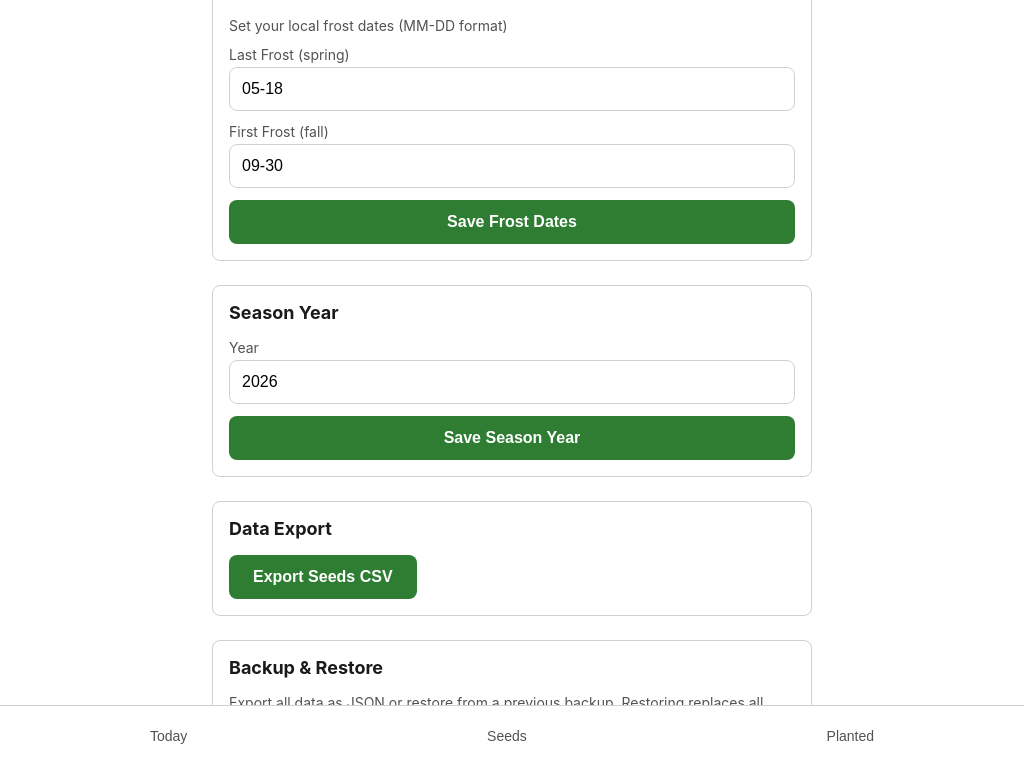
Test case: Settings page › saves season year
The width and height of the screenshot is (1024, 766).
(page scrolled)
Replace the text in the field labelled "Year" with "2027". click: (512, 382)
box: top-left (229, 360), bottom-right (795, 404)
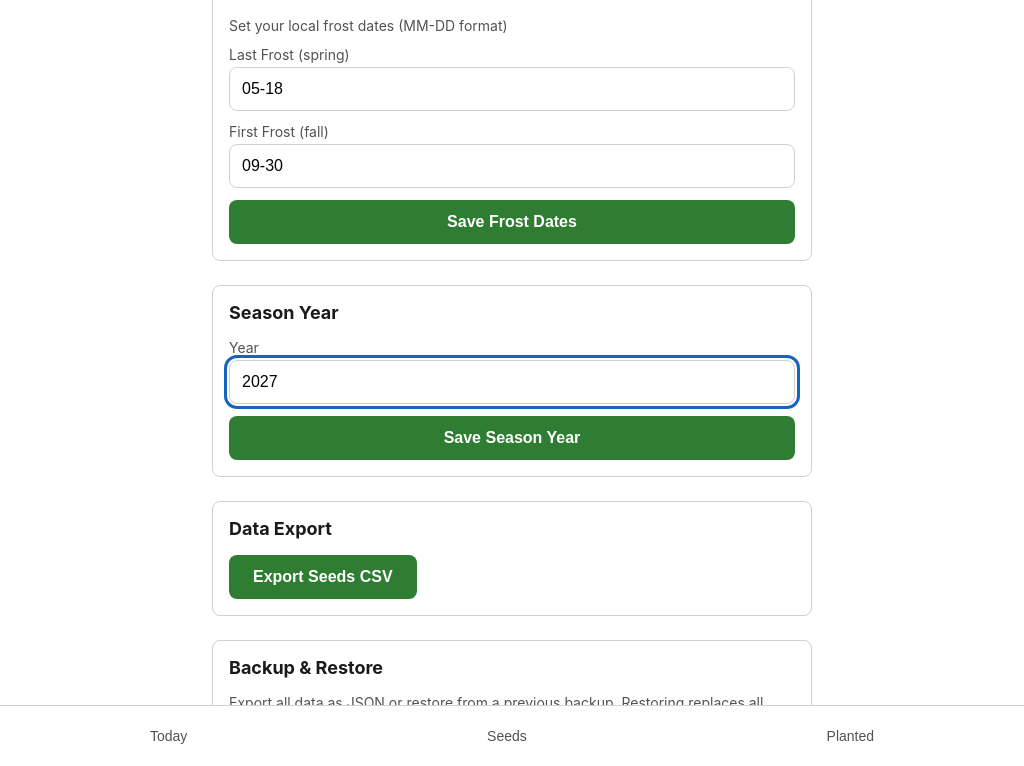
Click the button "Save Season Year". click: (512, 438)
box: top-left (229, 416), bottom-right (795, 460)
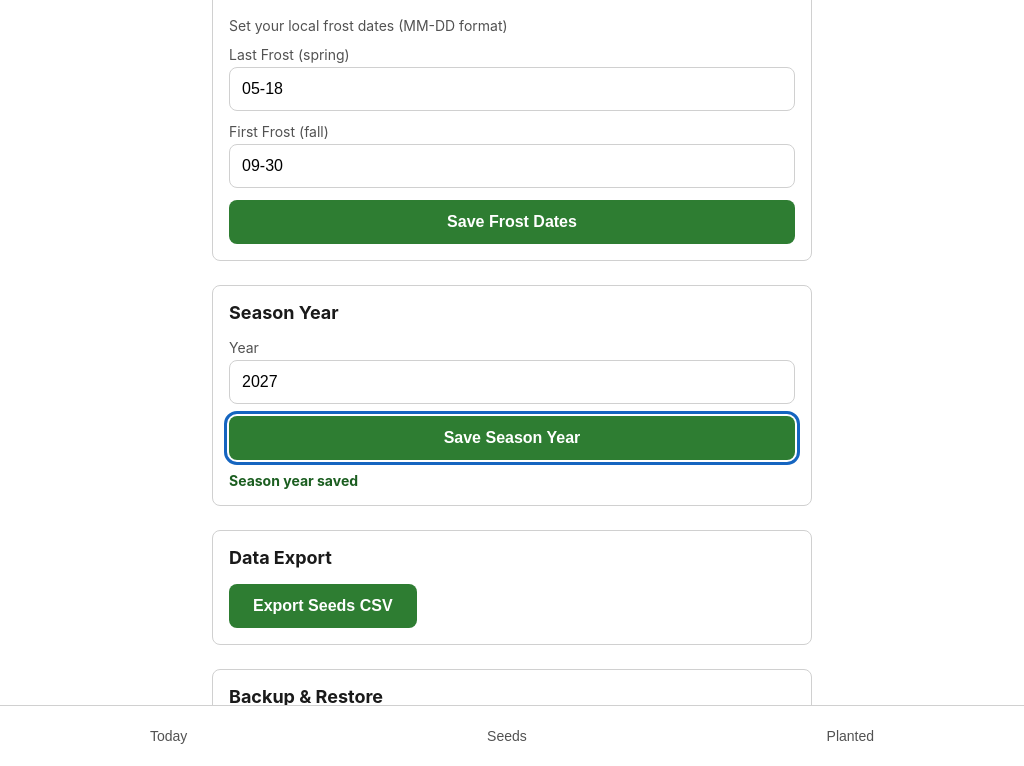
Check: the text "Season year saved" is shown, box top-left (229, 472), bottom-right (358, 489)
